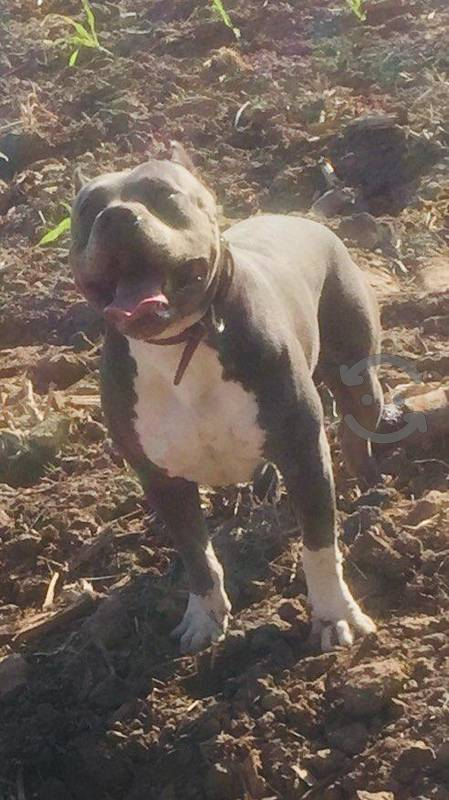Perro Pitbull: (55, 157, 411, 655)
